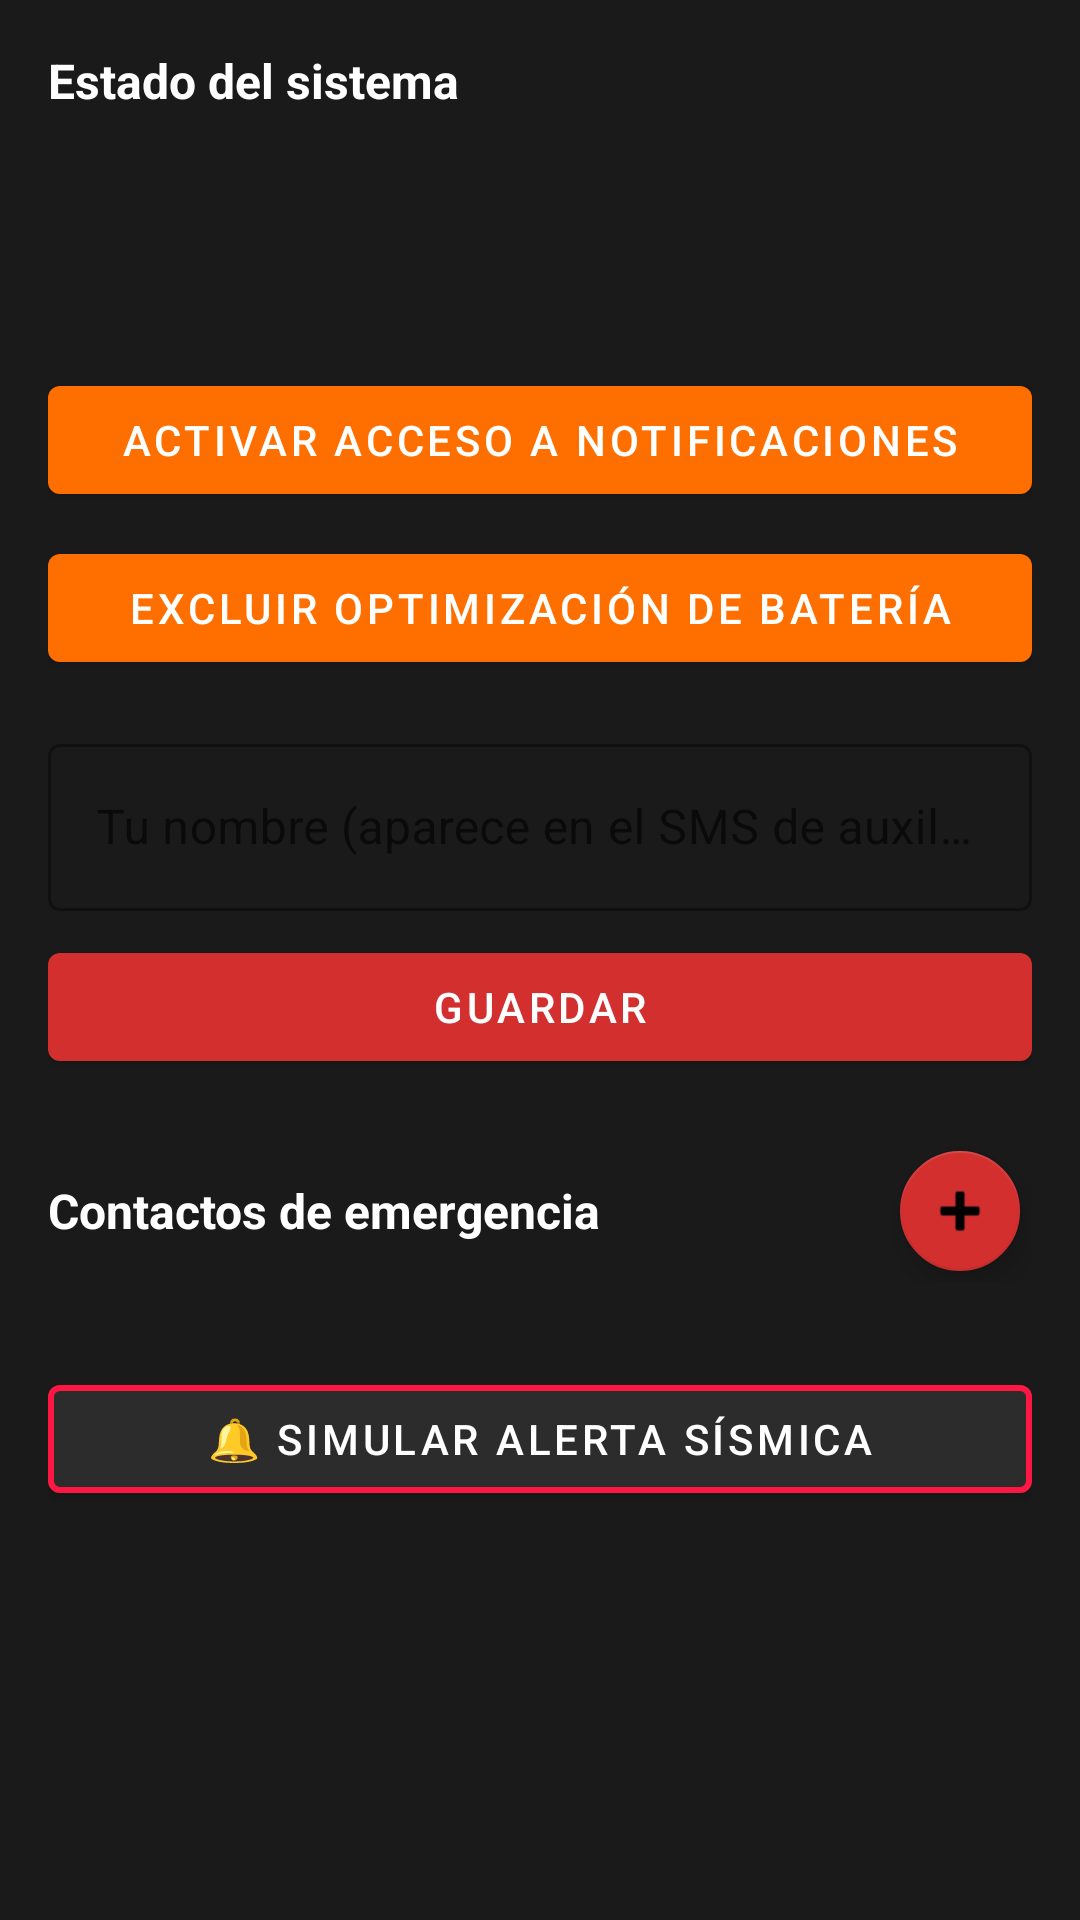

Icon click points for this 1080×1920 phone screenshot, format (x,y):
add: (960,1211)
